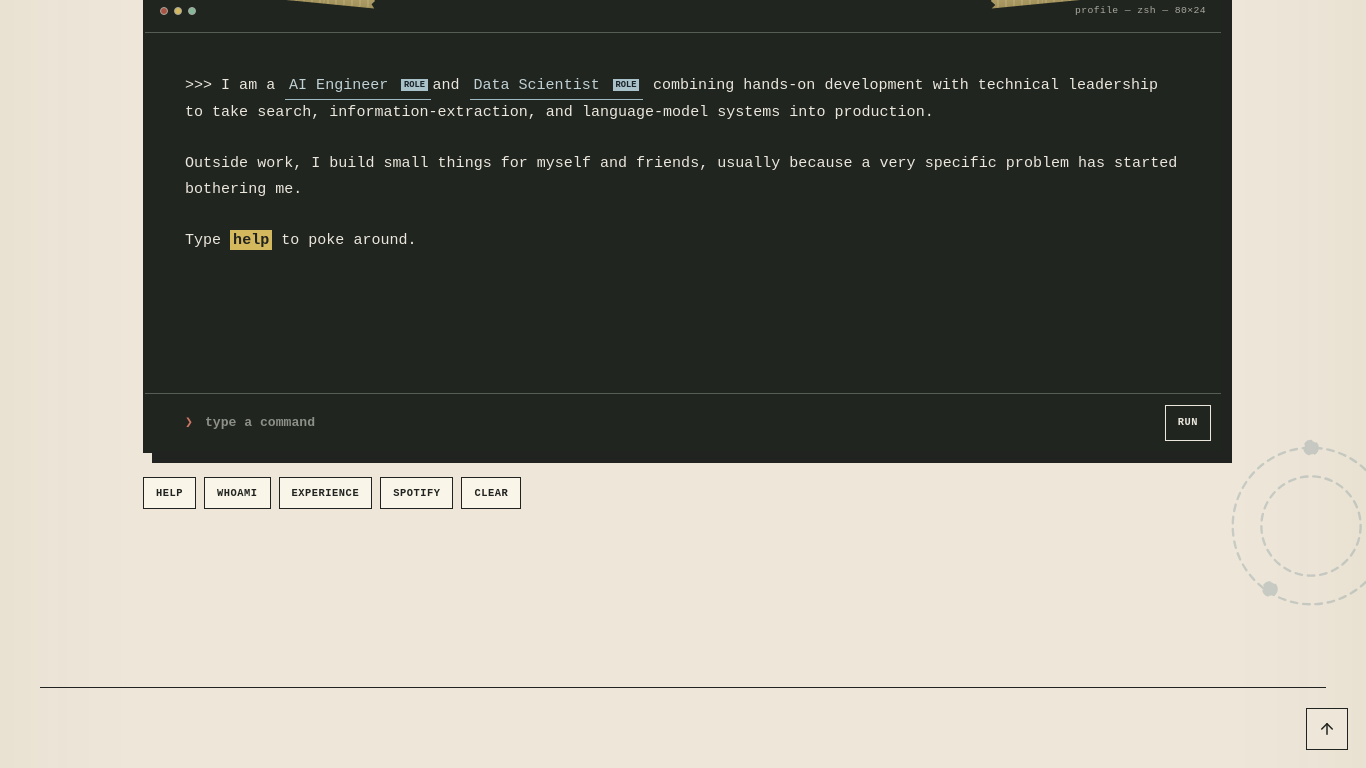
Test case: terminal commands › runs help
The width and height of the screenshot is (1366, 768).
(page scrolled)
Type "help" into the field named "terminal command".
click(679, 423); type("help")  # box 205,406 -> 1153,439
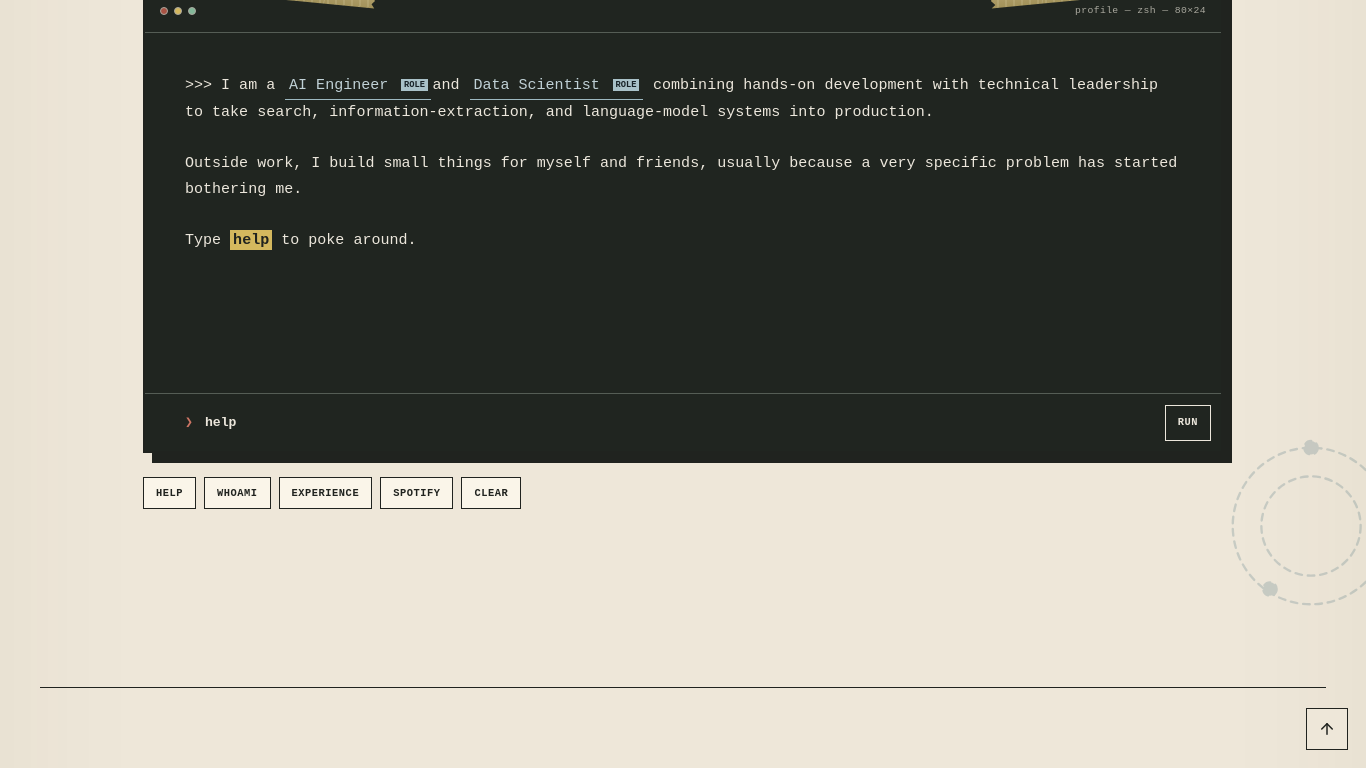
Press Enter in the field named "terminal command", box 205,406 -> 1153,439
(page scrolled)
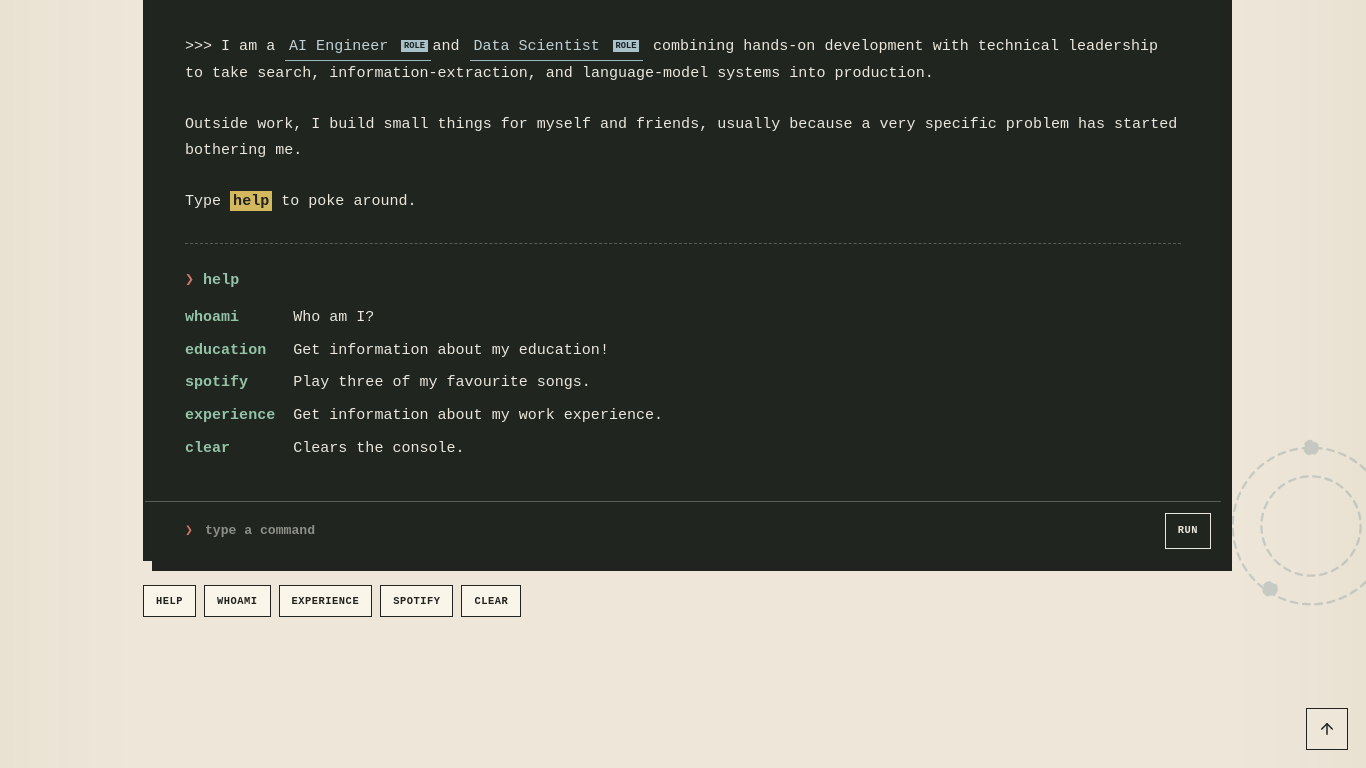
Now the text "whoami" is shown, box 185,308 -> 239,326
Now the text "education" is shown, box 185,338 -> 275,363
Now the text "spotify" is shown, box 185,373 -> 248,391
